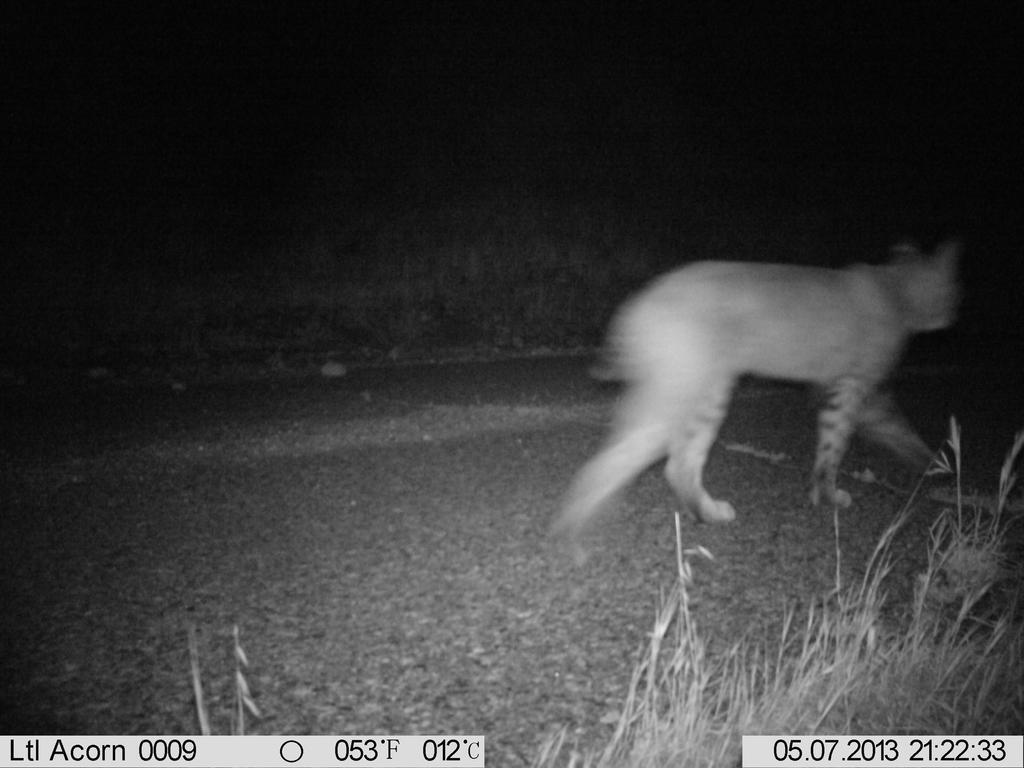bobcat: (530, 217, 993, 577)
